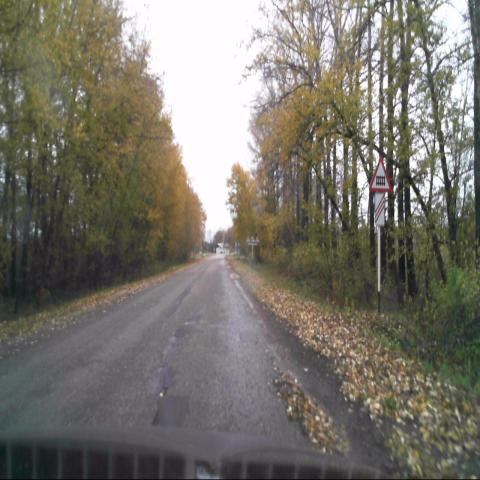1_1: (369, 156, 391, 193)
